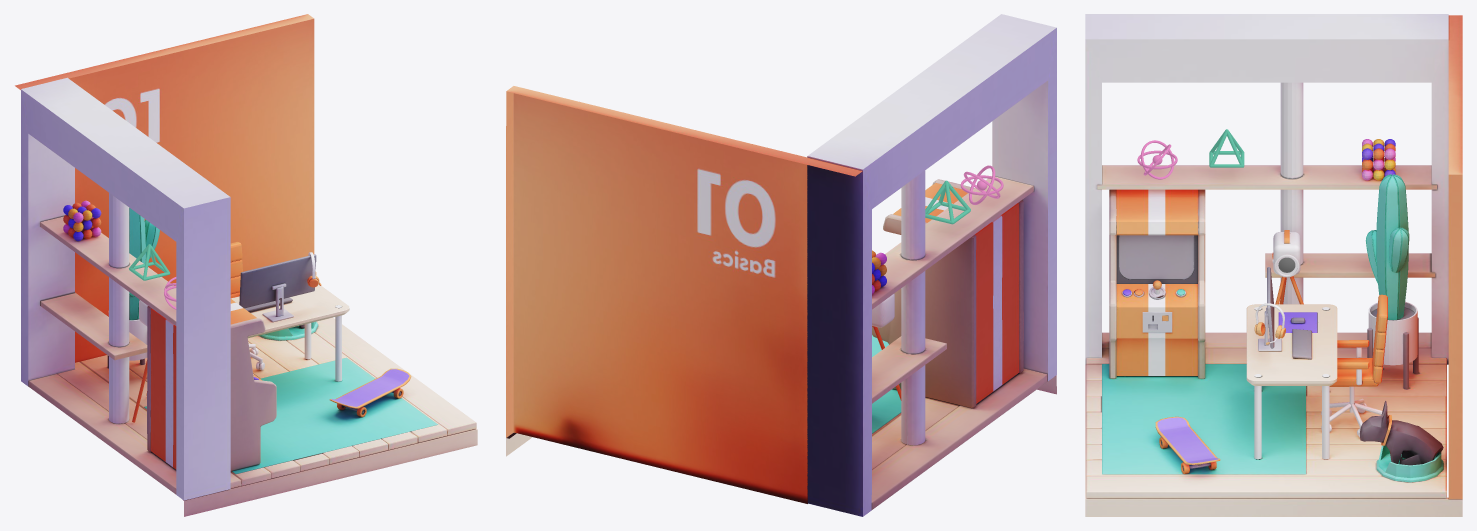
Rendered from level-react-draco.glb.
3 views of the same model, side by side, from view 1: azimuth 30°, elevation 25°; view 2: azimuth 150°, elevation 25°; view 3: azimuth 270°, elevation 25° (orthographic). The views are drawn at different scales.
Parts seen in each view (by area): view 1: Level, Cactus, Pyramid; view 2: Level, Pyramid, React; view 3: Level, Cactus, Sudo, Camera.001, SudoHead, React, Pyramid.
Boxes of the visible parts, bbox=[...] form: Level: bbox=[15, 14, 477, 516]; Cactus: bbox=[129, 208, 159, 320]; Pyramid: bbox=[129, 244, 170, 280]; Level: bbox=[506, 14, 1056, 516]; Pyramid: bbox=[925, 180, 970, 224]; React: bbox=[960, 165, 1003, 204]; Level: bbox=[1085, 14, 1462, 516]; Cactus: bbox=[1365, 174, 1409, 319]; Sudo: bbox=[1385, 420, 1443, 465]; Camera.001: bbox=[1272, 230, 1300, 277]; SudoHead: bbox=[1359, 401, 1391, 445]; React: bbox=[1137, 140, 1177, 179]; Pyramid: bbox=[1209, 129, 1244, 167].
Bounding box in the file's own units: 2 × 2.01 × 2.
5 materials, 2 textured.
